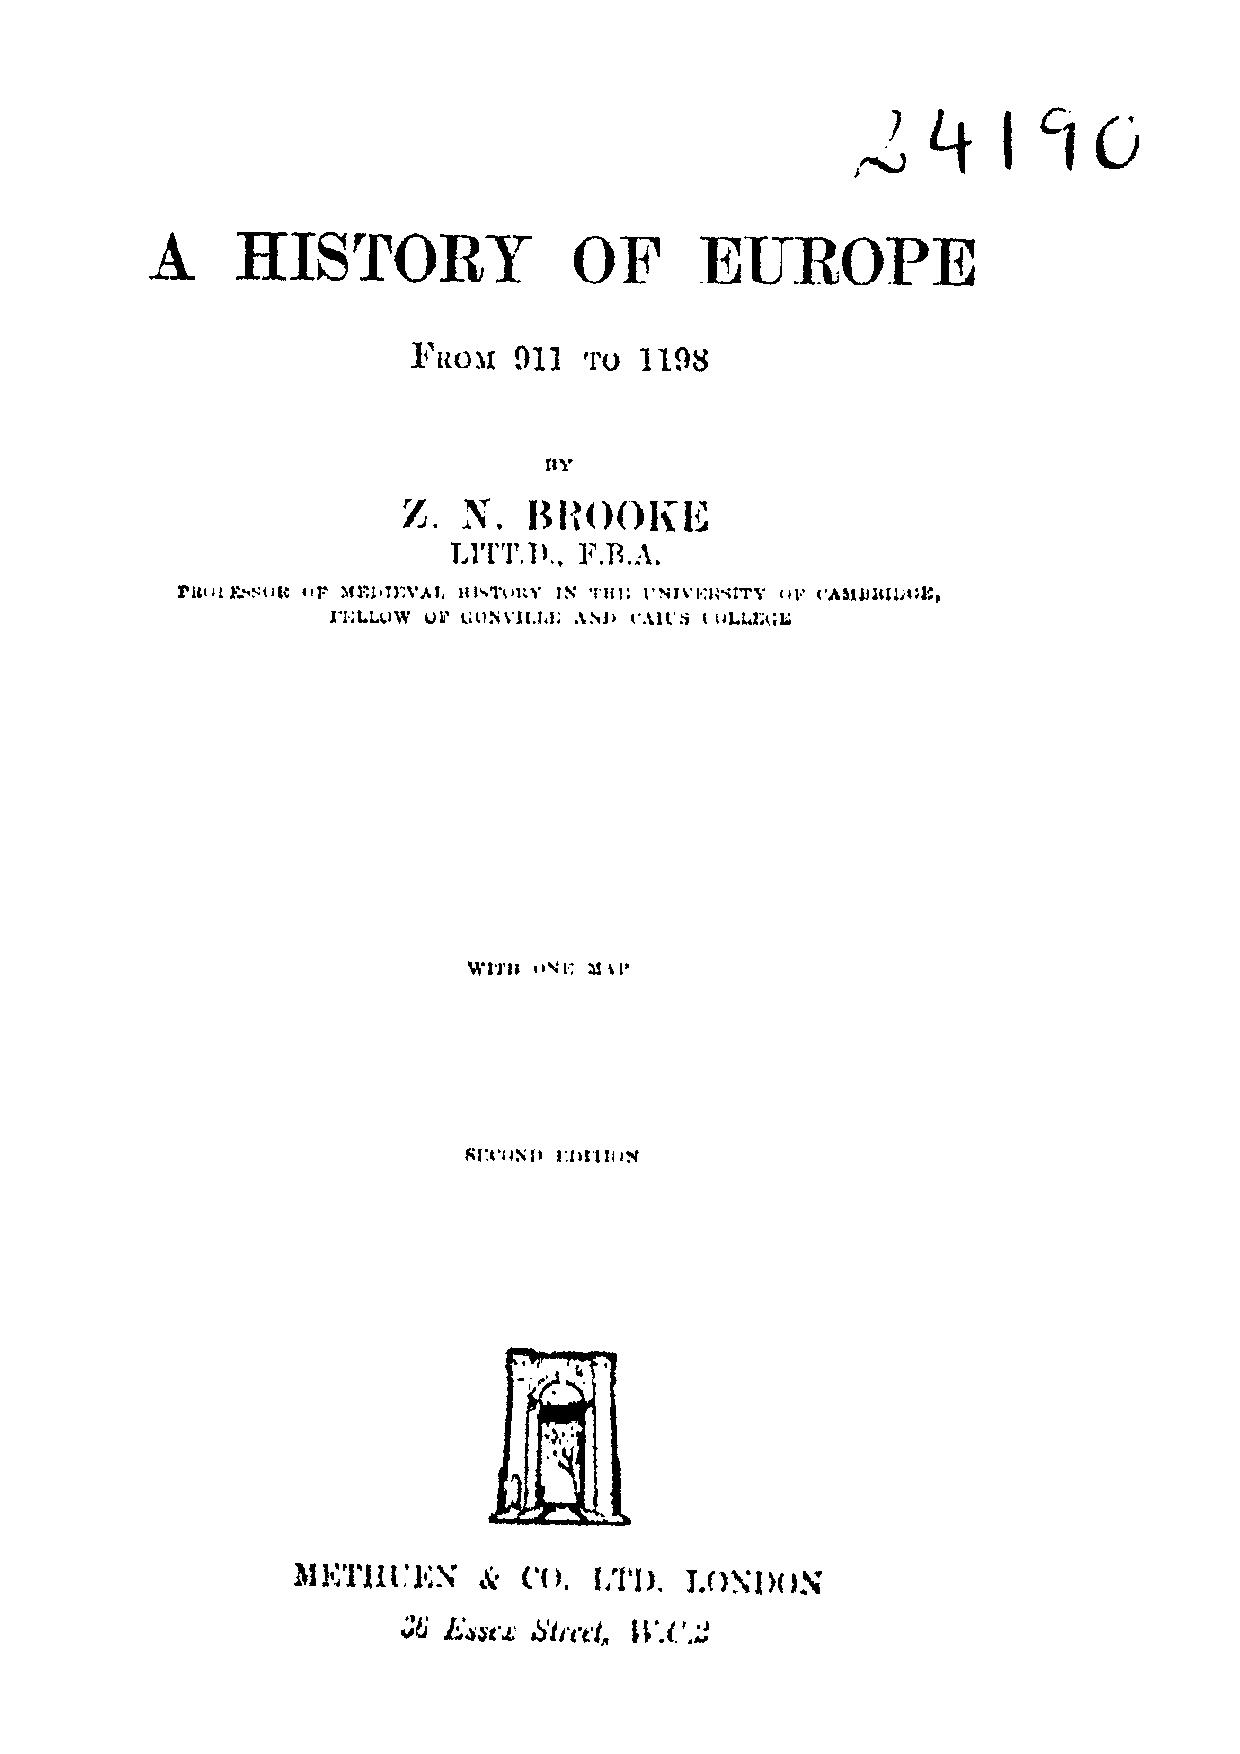author: (399, 456, 710, 533)
title: (148, 229, 978, 373)
